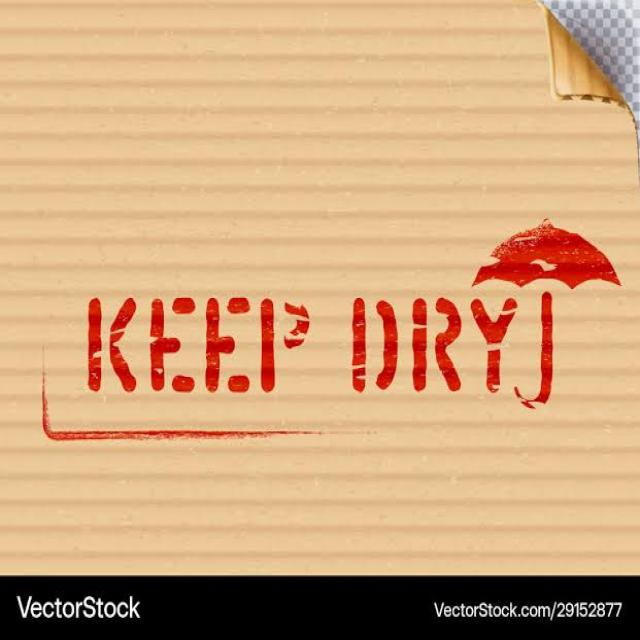keep_dry_label: (20, 195, 638, 456), (28, 224, 605, 458)
